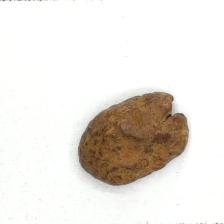NG: (140, 91, 188, 142)
